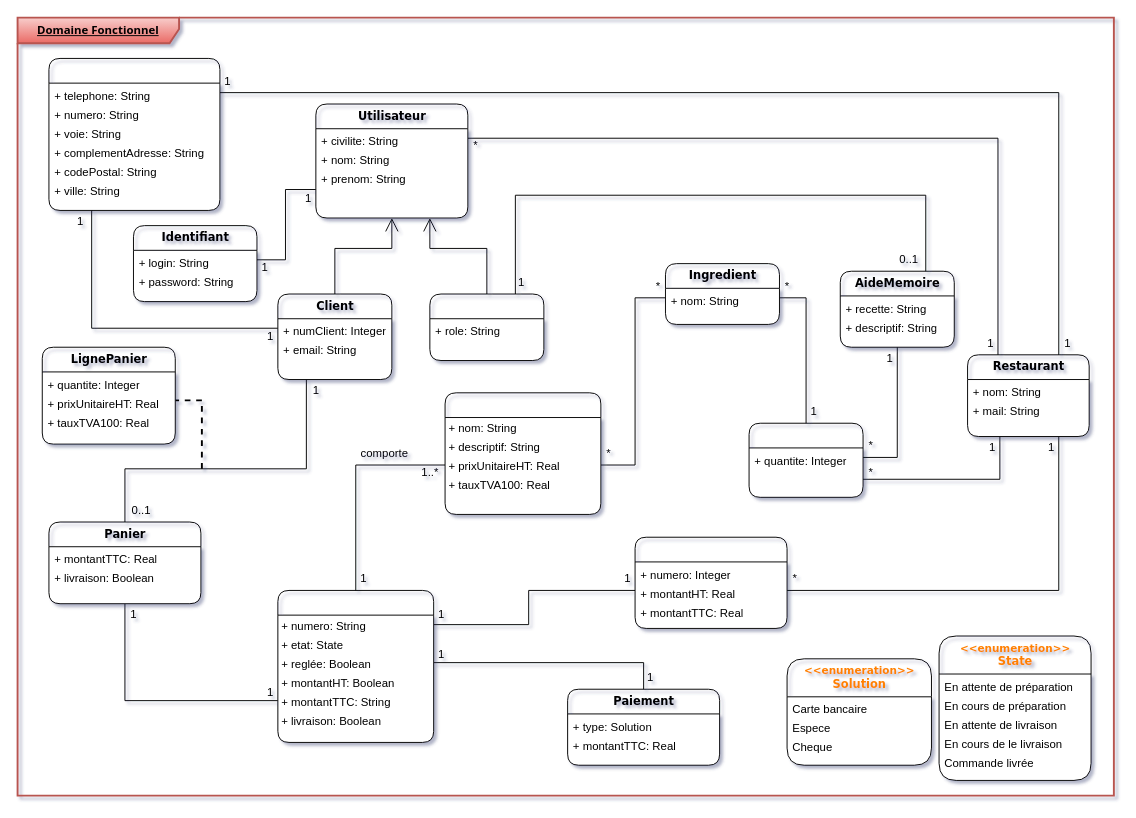
Some shapes in this 1136 by 818 pixel diagram are drawn without their labels. Here are the shapes that lost their labels. From the top down, the box of each, then its label:
(48, 57, 220, 210): Coordonnees
(429, 293, 544, 361): Employe
(444, 392, 601, 514): Pizza
(748, 422, 863, 497): Stock
(634, 536, 787, 628): Facture
(277, 589, 434, 742): Commande
